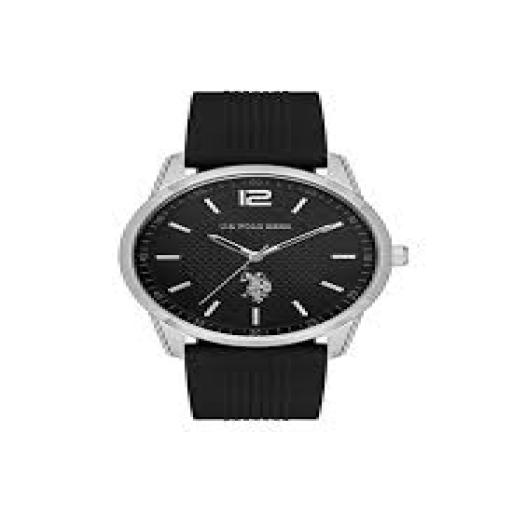KolSaati: (89, 64, 437, 437)
